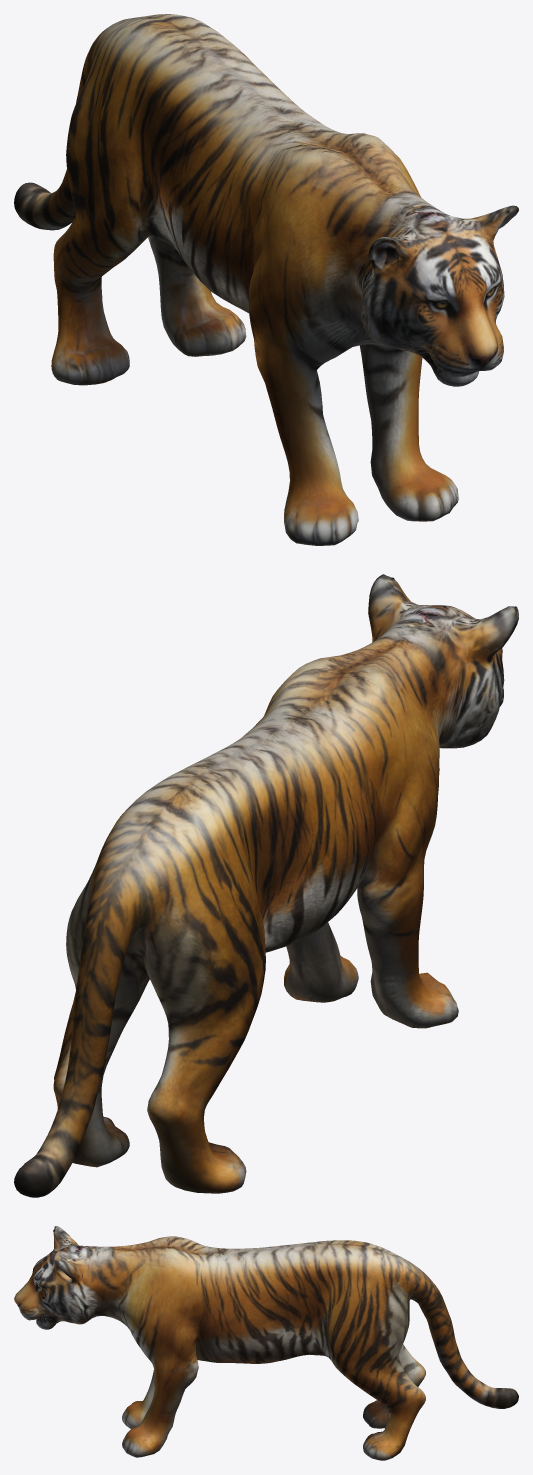
File: tiger.glb
3 views of the same model, one above another, from view 1: azimuth 30°, elevation 25°; view 2: azimuth 150°, elevation 25°; view 3: azimuth 270°, elevation 25° (orthographic). The views are drawn at different scales.
Parts seen in each view (by area): view 1: Mesh1_Mesh1.007; view 2: Mesh1_Mesh1.007; view 3: Mesh1_Mesh1.007.
Boxes of the visible parts, x1,y1,x2,y2 form: Mesh1_Mesh1.007: (14,14,518,545); Mesh1_Mesh1.007: (14,574,518,1197); Mesh1_Mesh1.007: (14,1226,518,1460).
Size of the model in its own units: 0.4659 by 0.852 by 2.
1 material, 1 textured.
